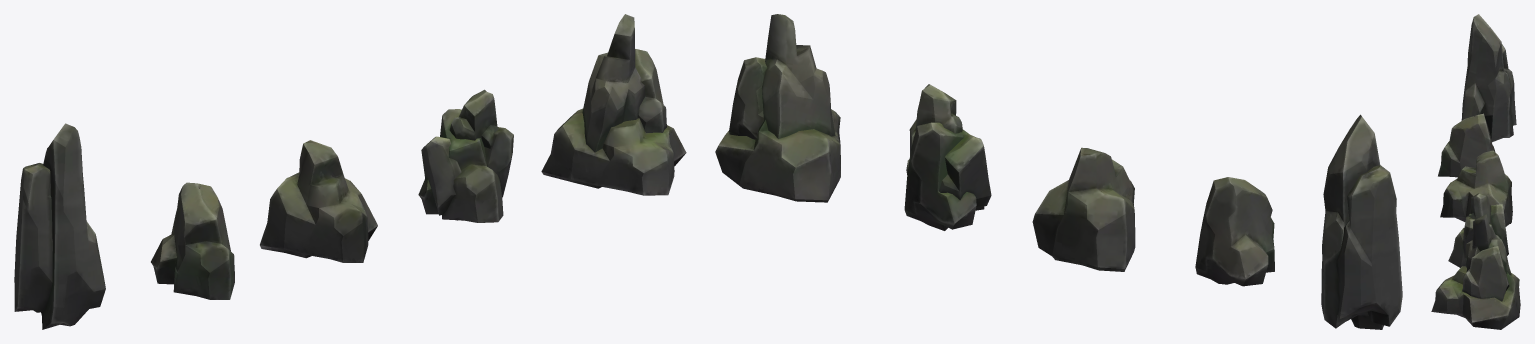
File: gorge-rocks.glb
3 views of the same model, side by side, from view 1: azimuth 30°, elevation 25°; view 2: azimuth 150°, elevation 25°; view 3: azimuth 270°, elevation 25° (orthographic). The views are drawn at different scales.
Visible parts, largest first — view 1: GorgeRocks; view 2: GorgeRocks; view 3: GorgeRocks.
Boxes of the visible parts, bbox=[...] form: GorgeRocks: bbox=[14, 14, 686, 329]; GorgeRocks: bbox=[715, 14, 1402, 329]; GorgeRocks: bbox=[1431, 14, 1520, 329].
Bounding box in the file's own units: 6.9 × 2.04 × 1.25.
1 material, 1 textured.
